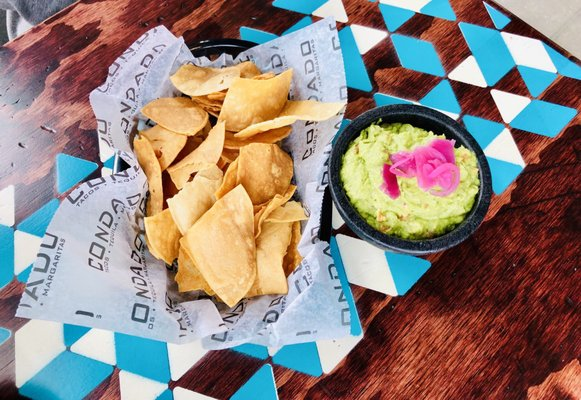sushi: (328, 99, 497, 256)
